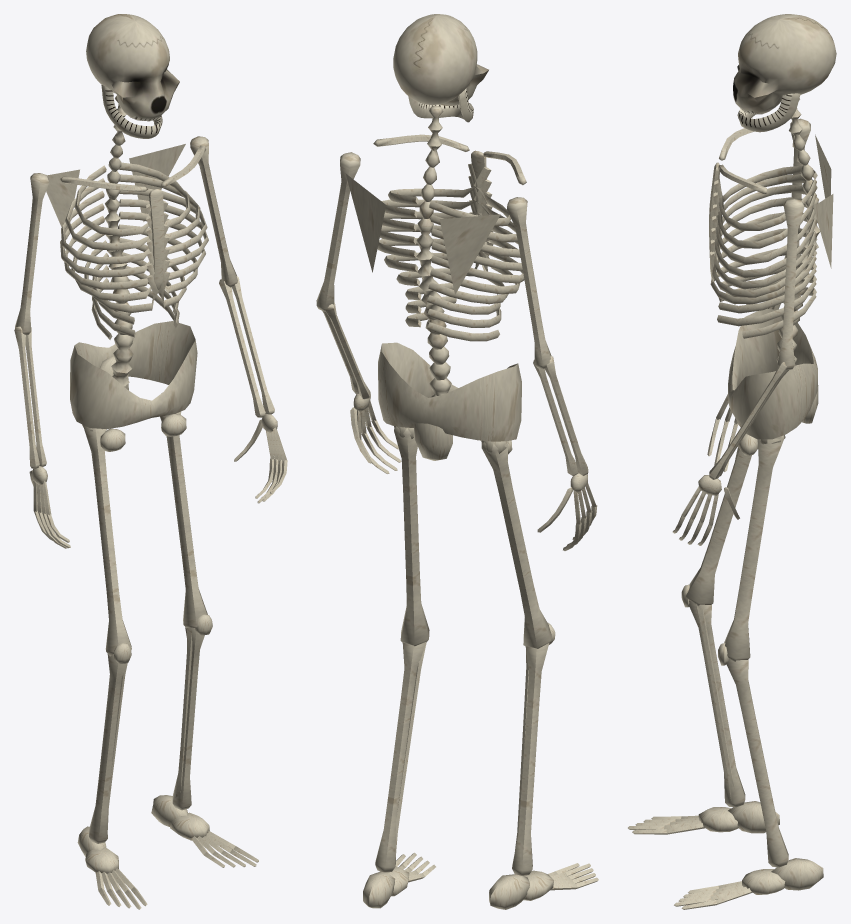
Rendered from skeleton.glb.
The picture shows the model from 3 angles, left to right: view 1: azimuth 30°, elevation 25°; view 2: azimuth 150°, elevation 25°; view 3: azimuth 270°, elevation 25°; orthographic projection. The views are drawn at different scales.
Parts seen in each view (by area): view 1: skeleton, head; view 2: skeleton, head; view 3: skeleton, head.
Boxes of the visible parts, x1,y1,x2,y2 form: skeleton: (14,95,287,909); head: (86,14,179,138); skeleton: (316,105,598,909); head: (393,14,488,122); skeleton: (628,98,833,909); head: (733,14,836,132).
Bounding box in the file's own units: 0.5066 × 1.74 × 0.3858.
Materials: 1 (1 with a texture image).
